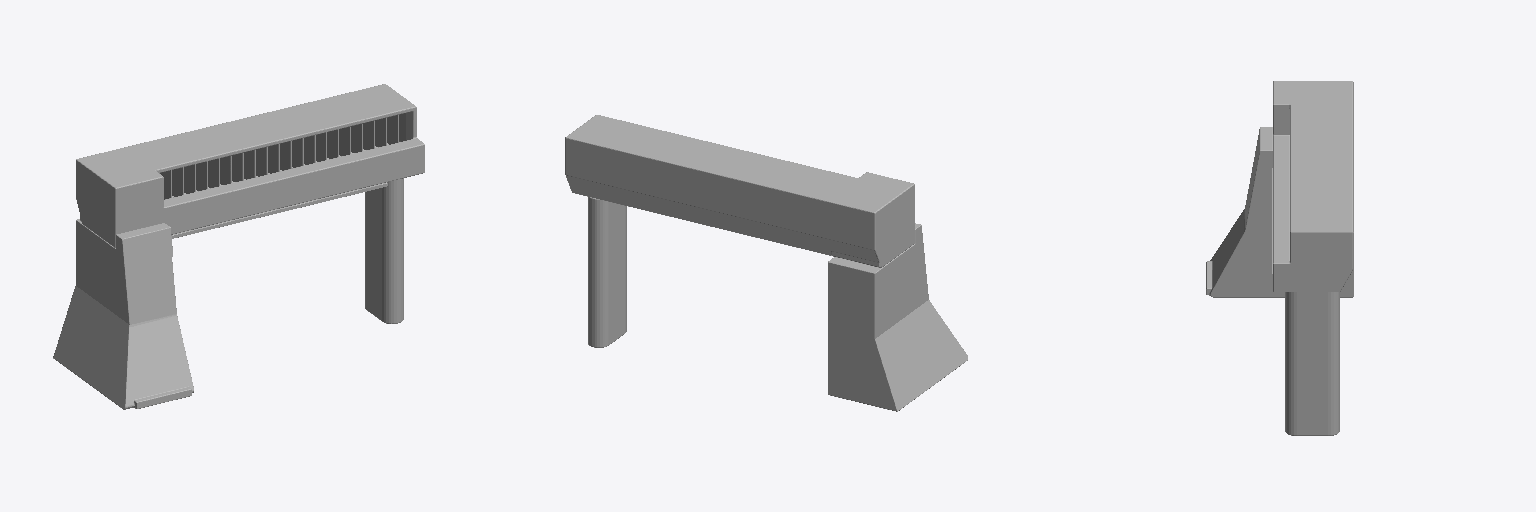
File: AXE1.obj
3 views of the same model, side by side, from view 1: azimuth 30°, elevation 25°; view 2: azimuth 150°, elevation 25°; view 3: azimuth 270°, elevation 25° (orthographic).
Parts seen in each view (by area): view 1: AXE1_cmm_asm_asm.003; view 2: AXE1_cmm_asm_asm.003; view 3: AXE1_cmm_asm_asm.003.
Boxes of the visible parts, x1=… form: AXE1_cmm_asm_asm.003: x1=53, y1=84, x2=424, y2=409; AXE1_cmm_asm_asm.003: x1=565, y1=115, x2=967, y2=411; AXE1_cmm_asm_asm.003: x1=1206, y1=81, x2=1353, y2=435.
Size of the model in its own units: 1.39 by 0.8424 by 0.5341.